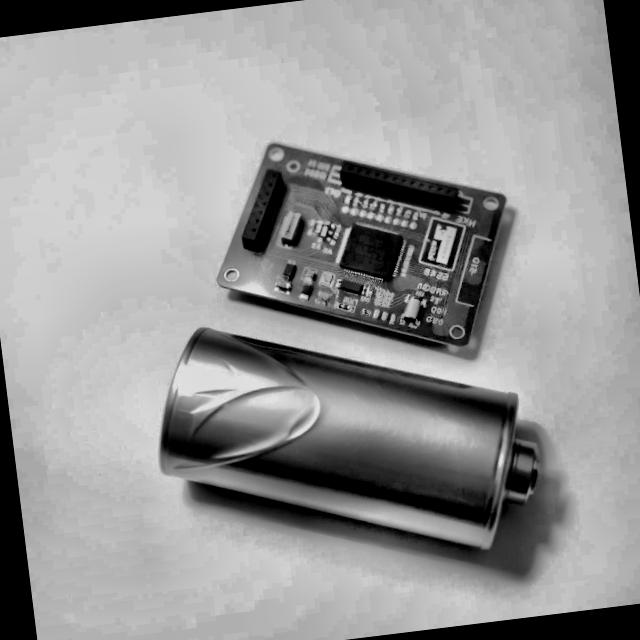Battery: (138, 284, 560, 604)
PCB: (202, 110, 530, 390)
